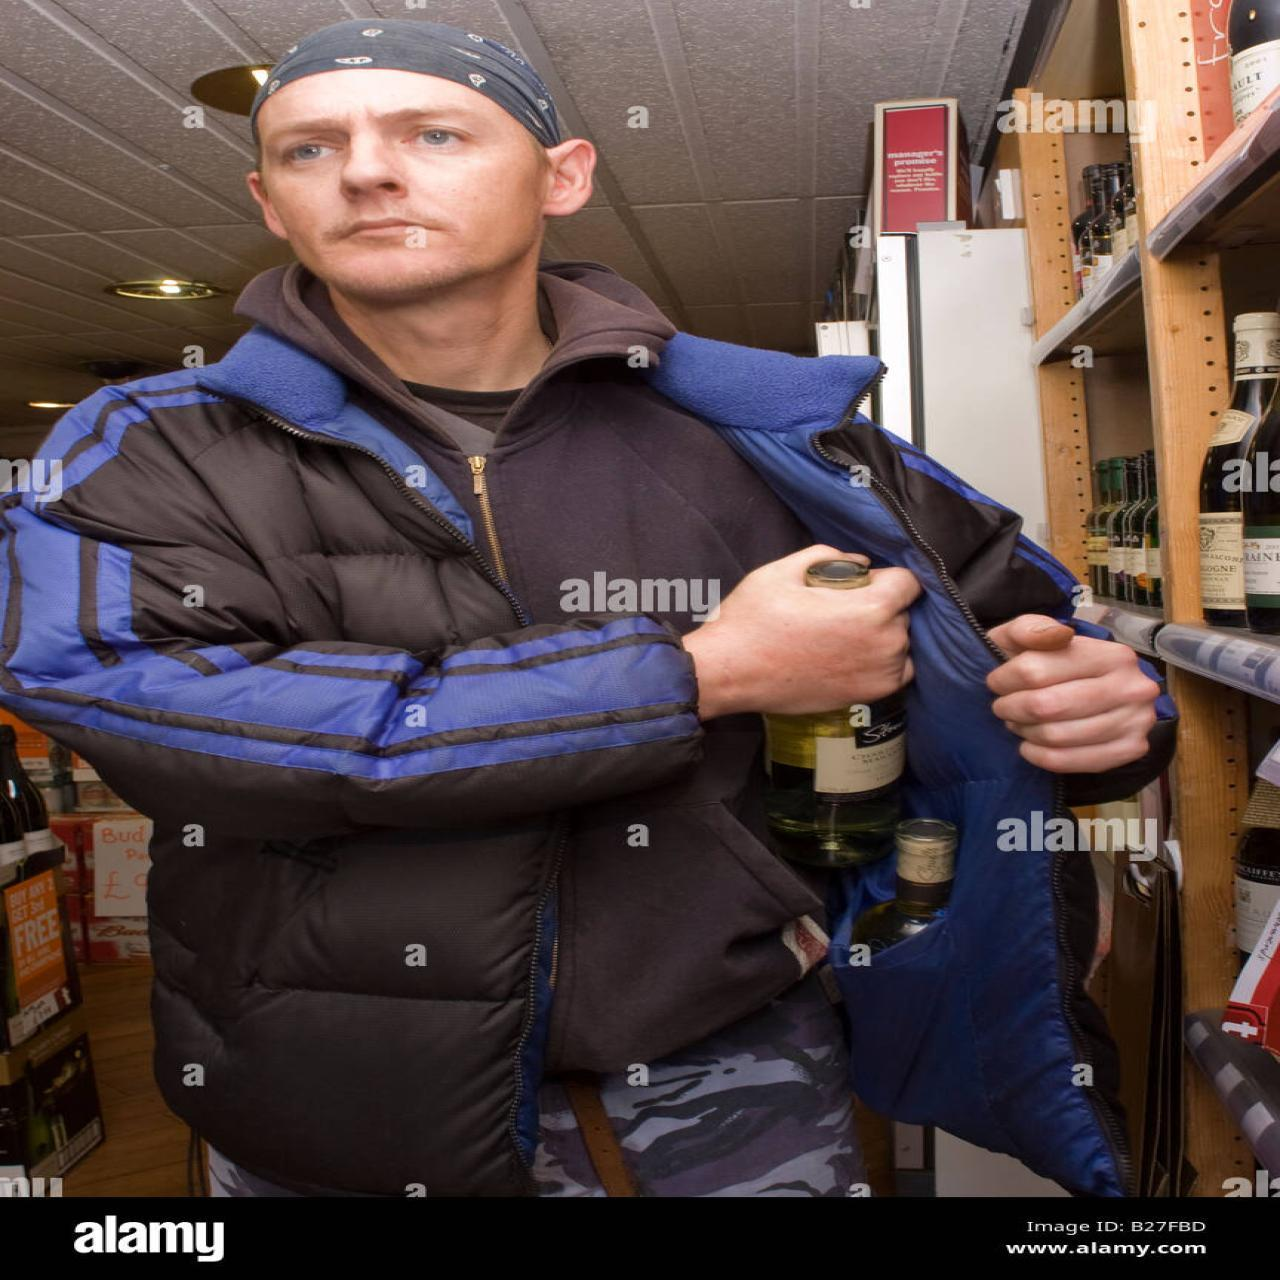Shoplifting: (260, 416, 1280, 1048)
